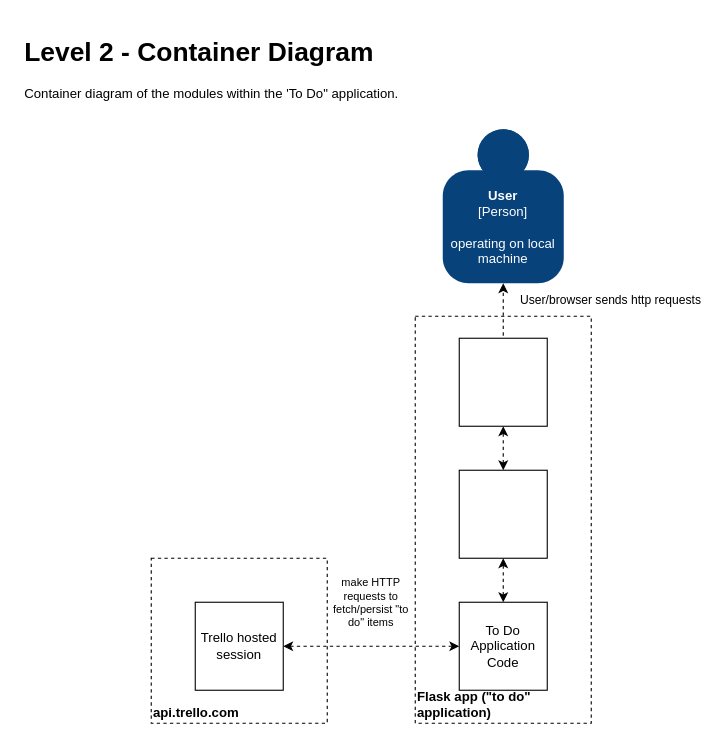
This 723x743 diagram has some shape labels left out. The box of each missing label's shape, as (x1, y1, x2, y2) in pixels:
Flask web app framework: (458, 469, 547, 558)
HTML web interface: (458, 337, 547, 426)
